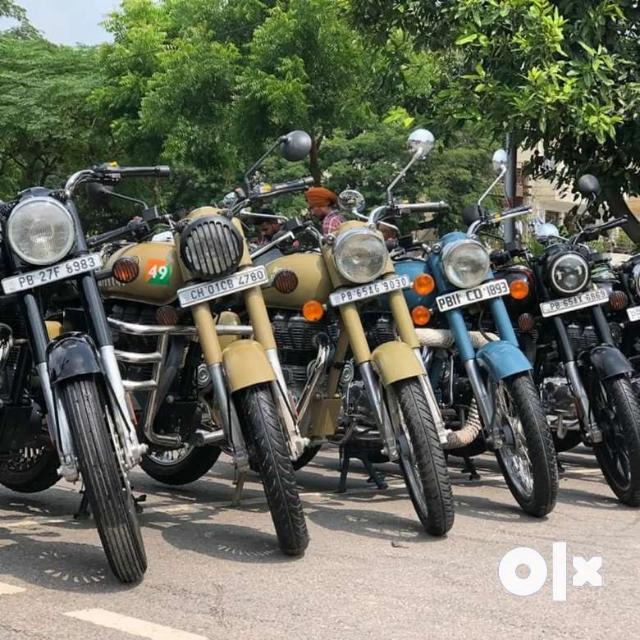Indian_Number_Plate: (3, 254, 104, 293), (178, 267, 267, 306), (331, 275, 409, 306), (437, 279, 510, 311), (543, 289, 607, 314)
